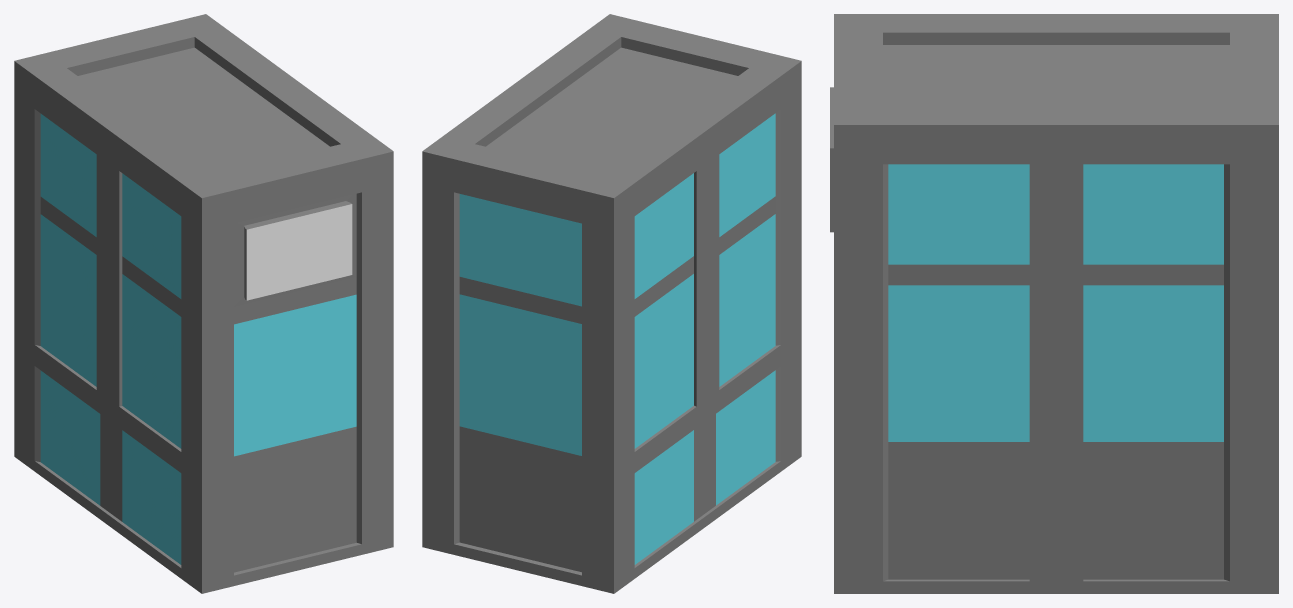
Rendered from Building.fbx.
3 views of the same model, side by side, from view 1: azimuth 30°, elevation 25°; view 2: azimuth 150°, elevation 25°; view 3: azimuth 270°, elevation 25° (orthographic). The views are drawn at different scales.
Parts seen in each view (by area): view 1: Building; view 2: Building; view 3: Building.
Boxes of the visible parts, x1,y1,x2,y2 form: Building: [14, 14, 393, 593]; Building: [422, 14, 801, 593]; Building: [830, 14, 1278, 593].
Bounding box in the file's own units: 20000 × 39405 × 34186.
